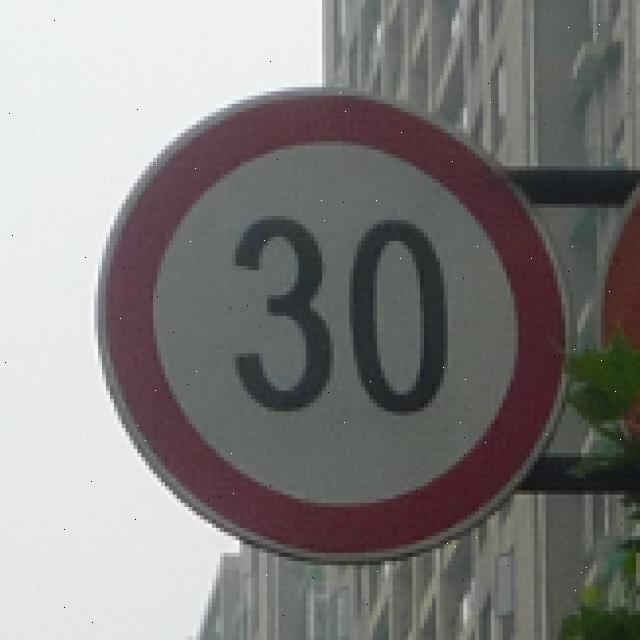speed limit 30: (96, 90, 572, 560)
